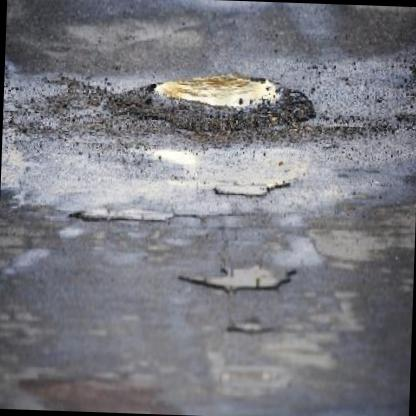pothole: (109, 71, 318, 142), (178, 262, 298, 296), (70, 210, 176, 229), (214, 179, 292, 200), (226, 322, 275, 338)
